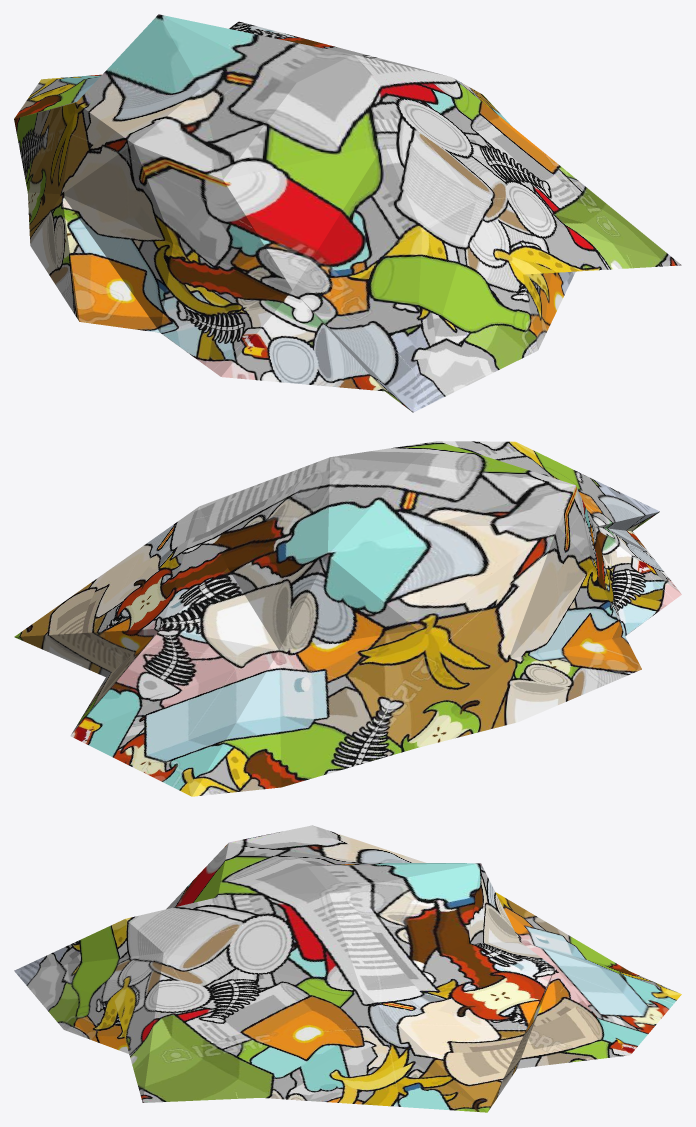
File: pile3.fbx
3 renders of one model, top to bottom at view 1: azimuth 30°, elevation 25°; view 2: azimuth 150°, elevation 25°; view 3: azimuth 270°, elevation 25°, orthographic. The views are drawn at different scales.
Visible parts, largest first — view 1: Icosphere; view 2: Icosphere; view 3: Icosphere.
Part boxes in pixels (box(x1,y1,x2,y2)): Icosphere: box(14, 14, 681, 412); Icosphere: box(14, 441, 681, 796); Icosphere: box(14, 825, 681, 1112).
Bounding box in the file's own units: 282 × 86.91 × 397.
